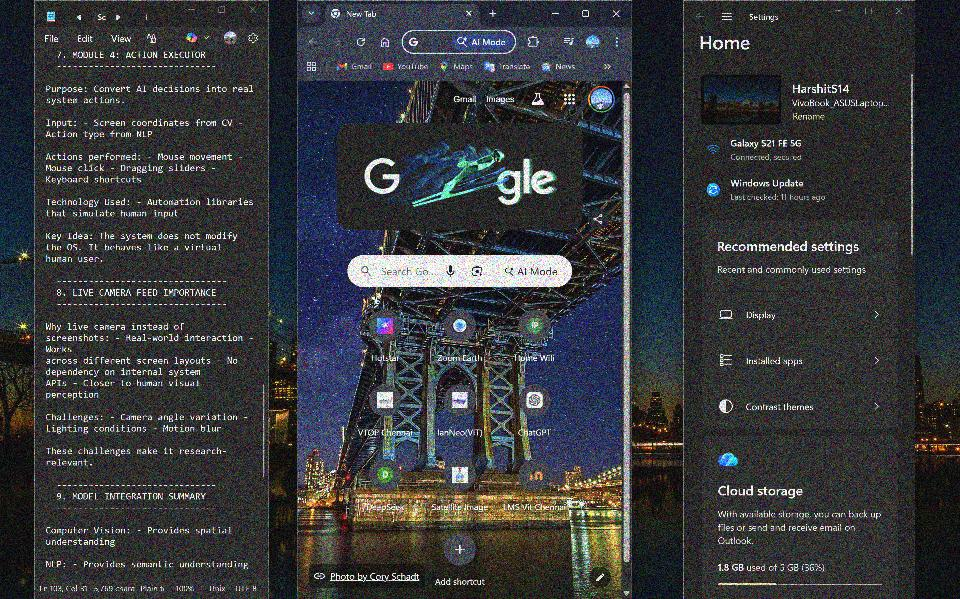close_button: (605, 1, 630, 28), (889, 1, 912, 26), (243, 0, 264, 27)
maximize_button: (573, 0, 600, 27), (212, 0, 235, 28), (859, 0, 882, 26)
minimize_button: (179, 1, 204, 27), (828, 0, 853, 26), (544, 0, 565, 26)
